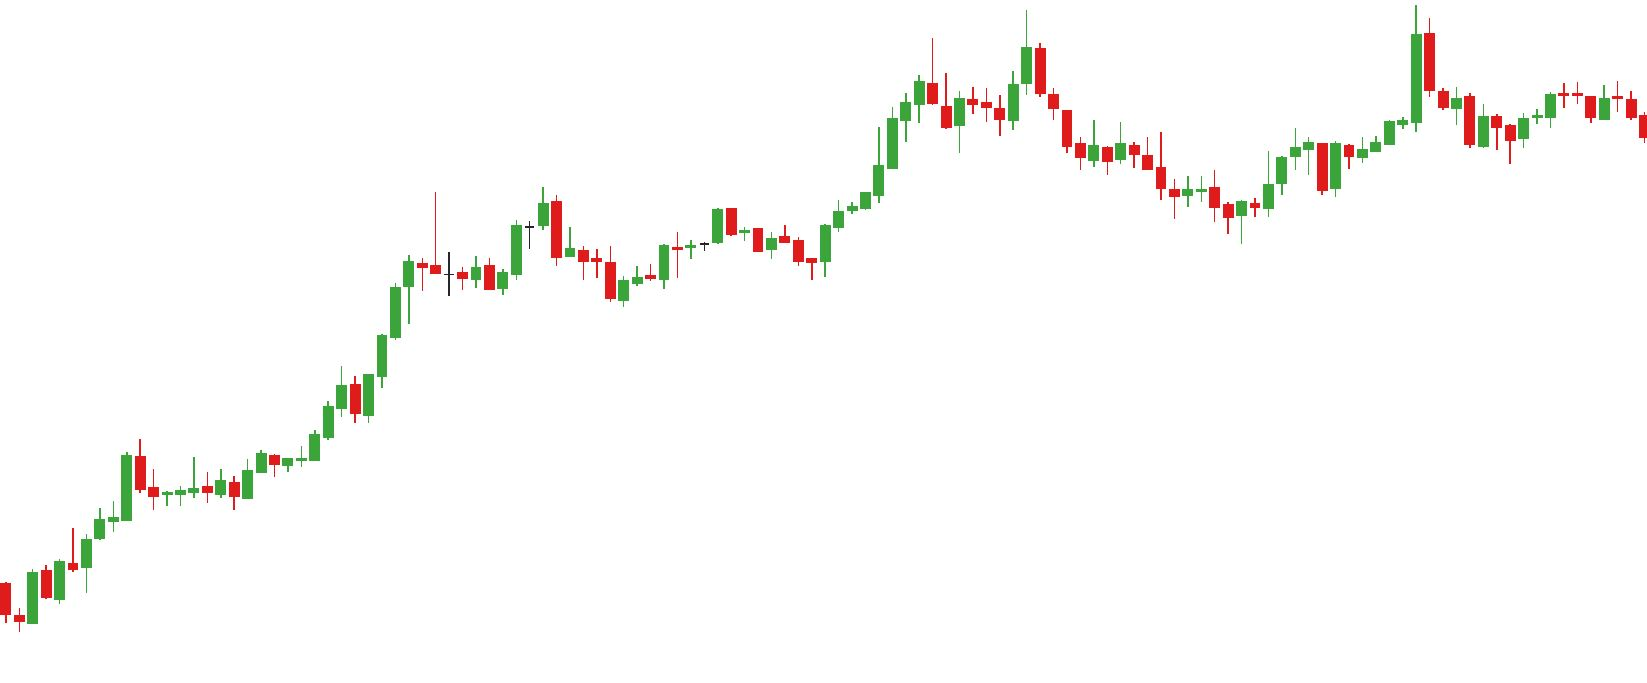buy: (480, 208, 632, 316)
sell: (924, 7, 1050, 122)
